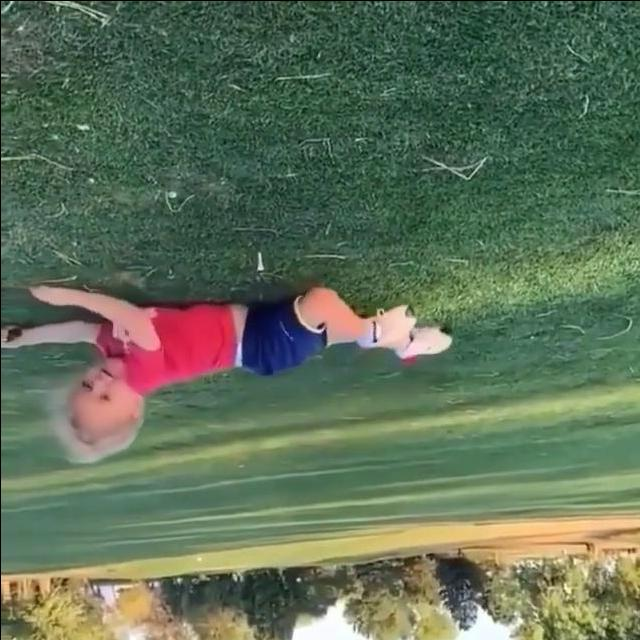ClubHandle: (5, 327, 21, 340)
